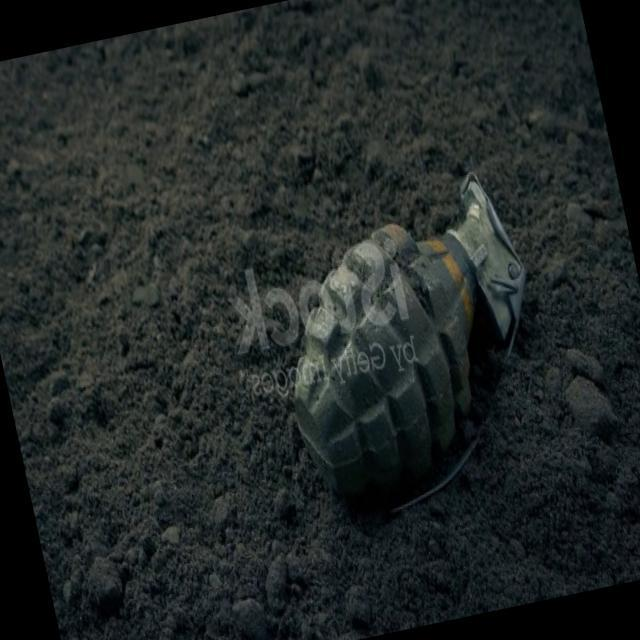grenade: (248, 158, 569, 530)
